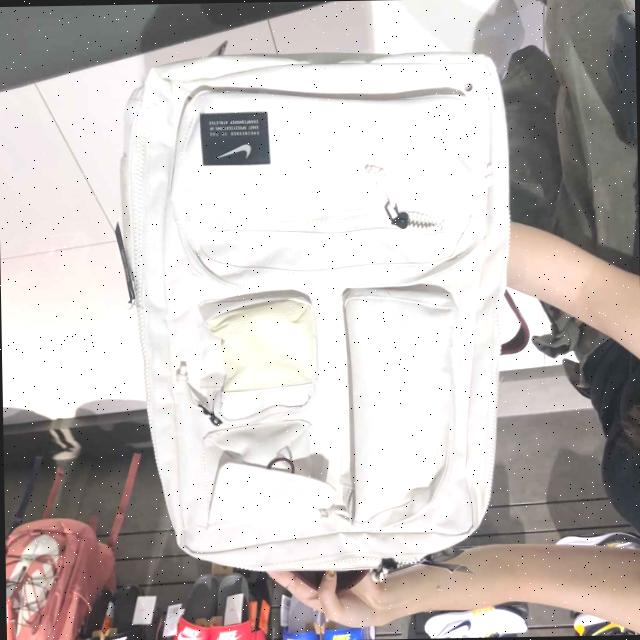Handbag: (118, 44, 514, 570)
